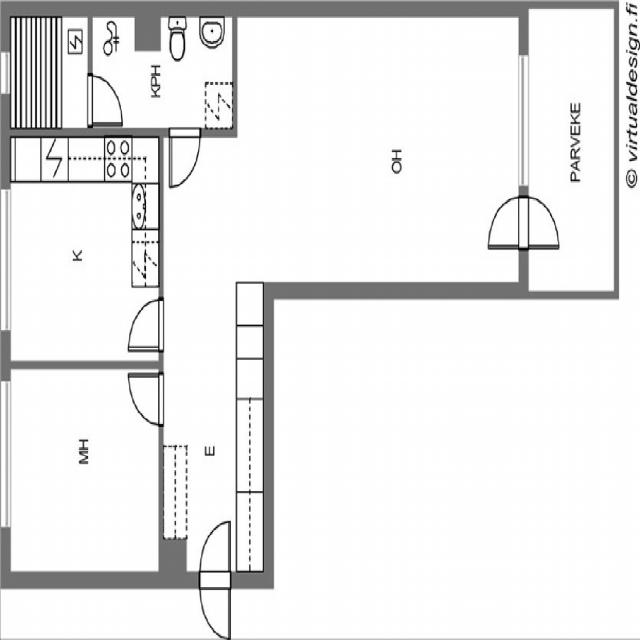door: (518, 196, 560, 248), (199, 519, 230, 588), (487, 196, 528, 248), (199, 572, 230, 640), (170, 128, 200, 188), (128, 374, 163, 425), (128, 300, 163, 350), (87, 76, 122, 124)
